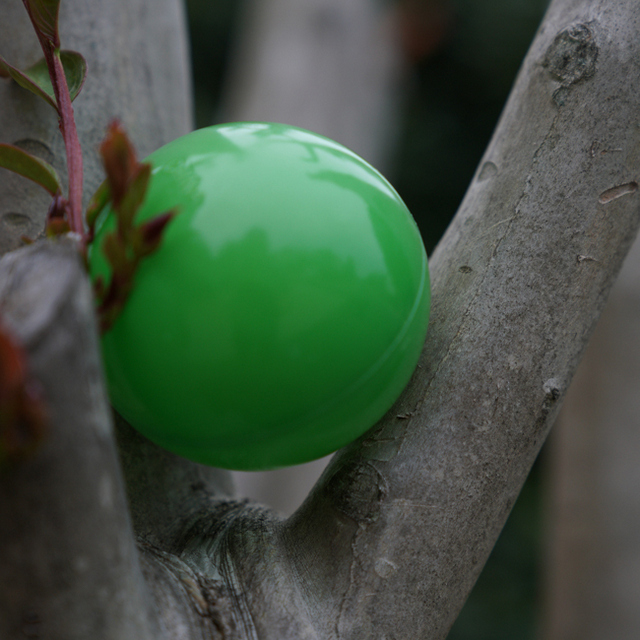Ball: (84, 123, 431, 473)
